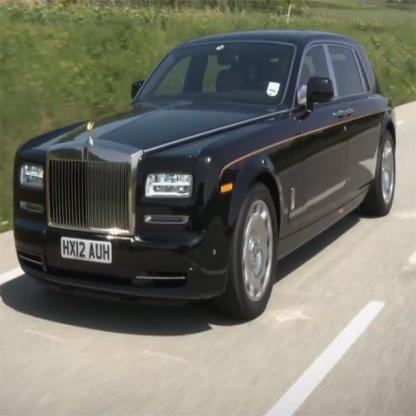Vehicle: (11, 25, 400, 327)
